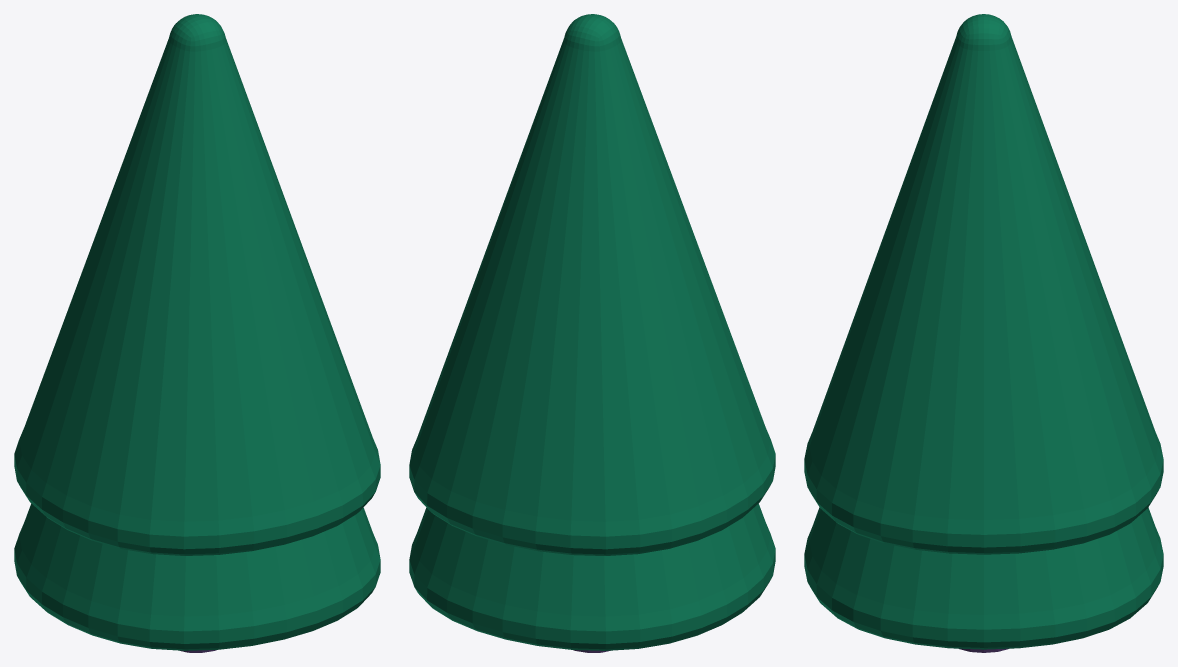
File: Tree4.fbx
The picture shows the model from 3 angles, left to right: view 1: azimuth 30°, elevation 25°; view 2: azimuth 150°, elevation 25°; view 3: azimuth 270°, elevation 25°; orthographic projection.
Visible parts, largest first — view 1: Tree4; view 2: Tree4; view 3: Tree4.
Boxes of the visible parts, x1,y1,x2,y2 form: Tree4: (14,14,380,652); Tree4: (409,14,775,652); Tree4: (804,14,1163,652).
Size of the model in its own units: 0.0182 by 0.0347 by 0.0182.
